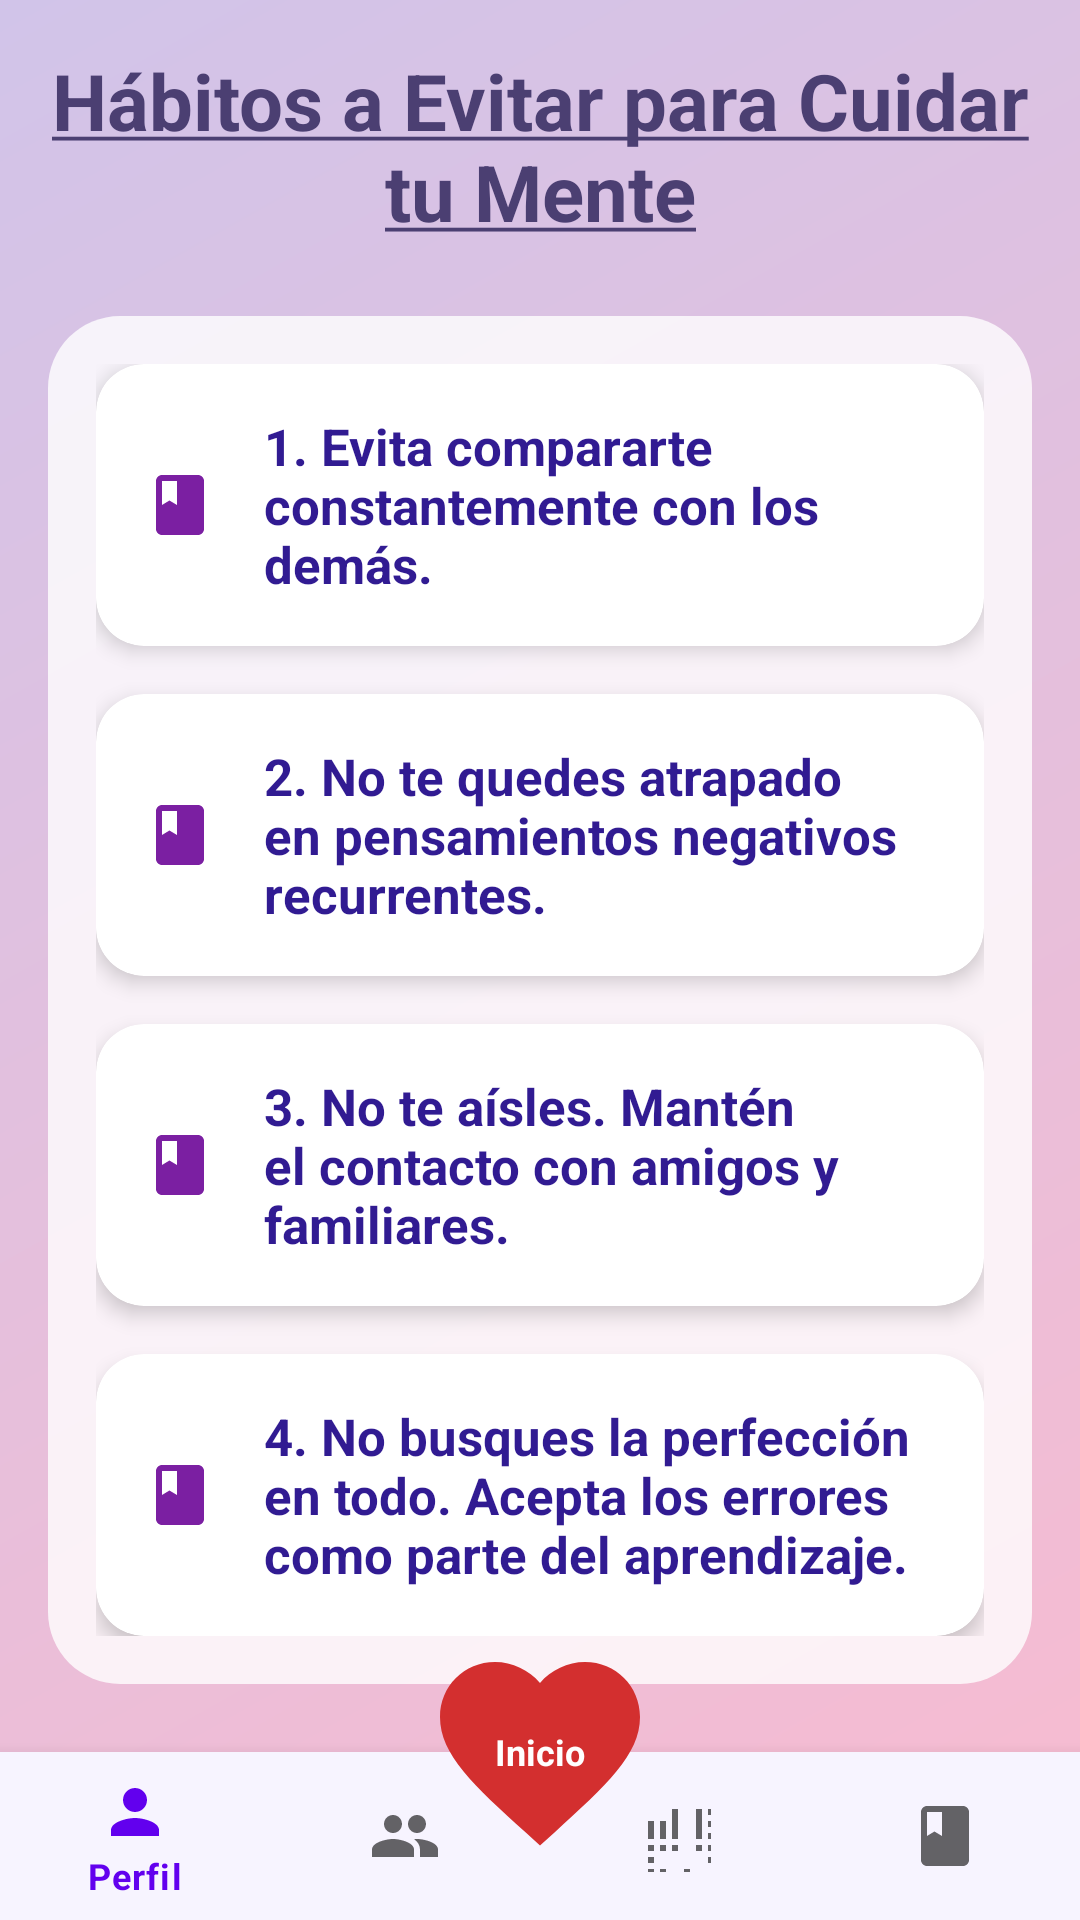

Icon click points for this 1080 × 1920 phone screenshot, format (x,y):
corazon shape: (540,1767)
